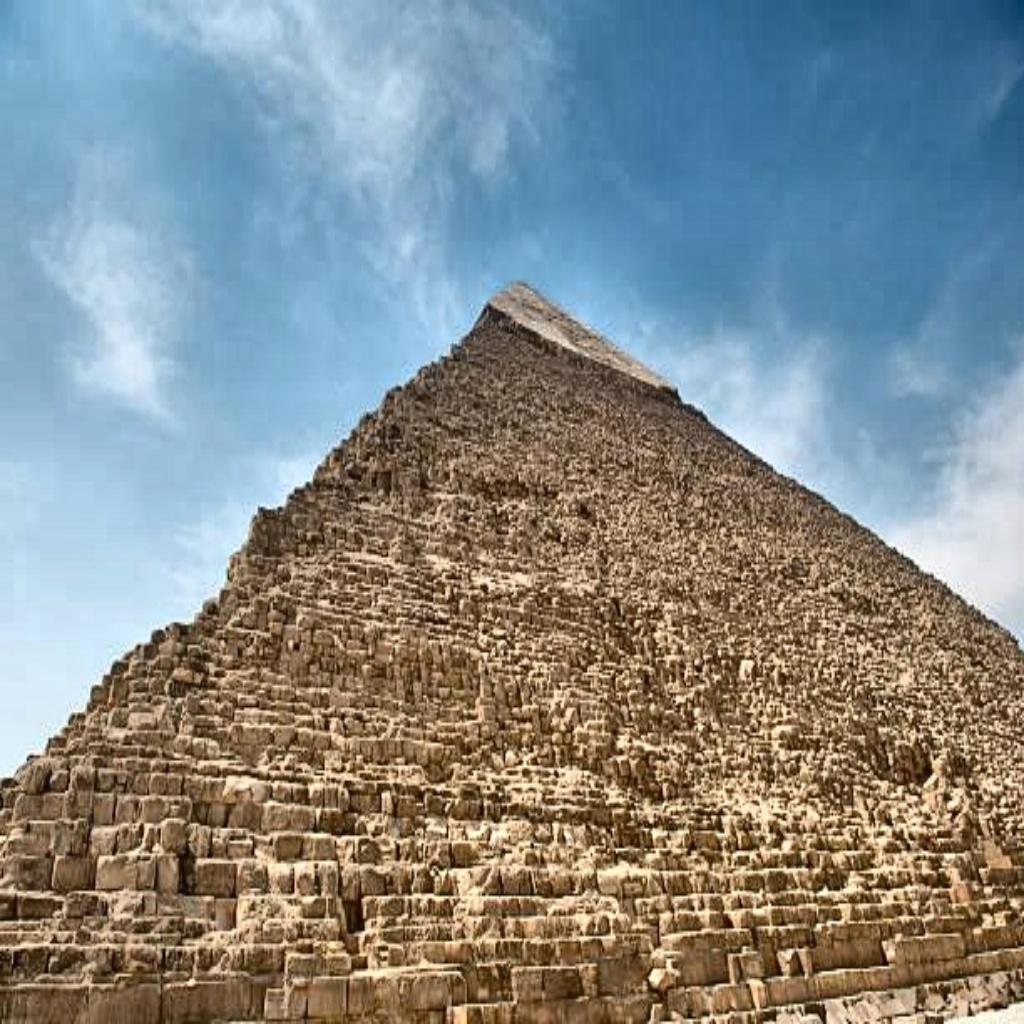Great Pyramids of Giza: (2, 274, 1020, 1019)
